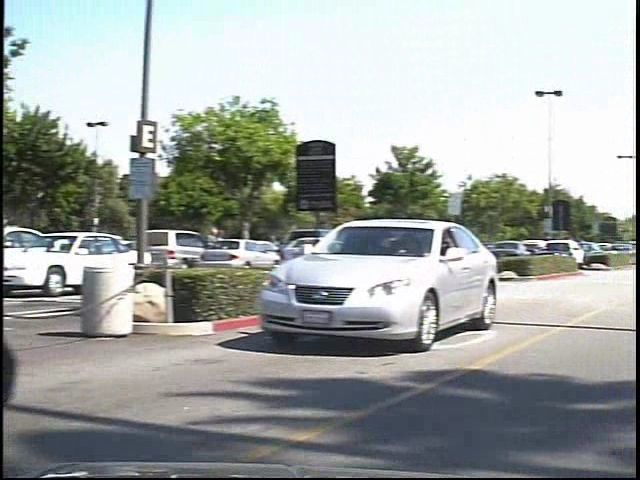person: (211, 220, 238, 270)
